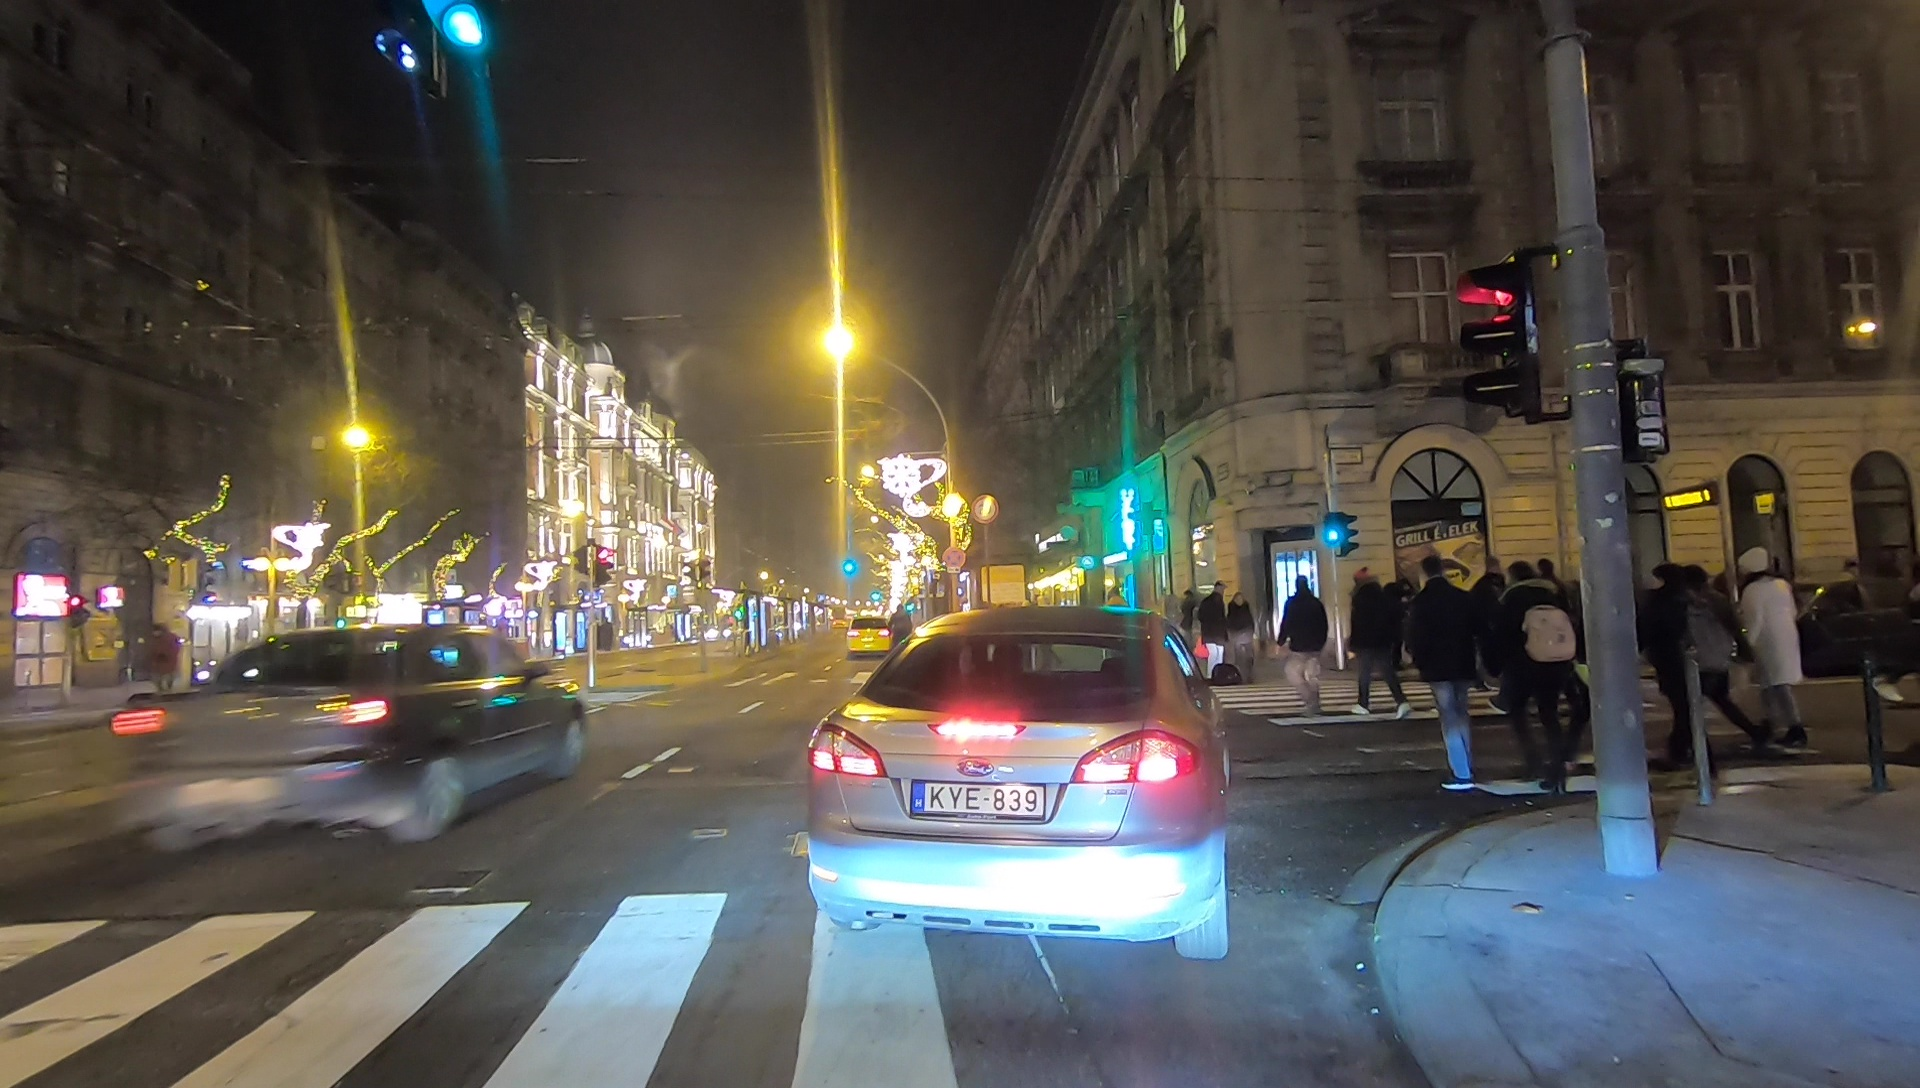person: (1406, 558, 1495, 799), (1497, 565, 1575, 797), (1669, 565, 1754, 756), (1738, 556, 1815, 749), (1352, 565, 1414, 717), (1282, 571, 1336, 711), (1201, 578, 1226, 676), (1230, 591, 1254, 684), (149, 623, 178, 695)
